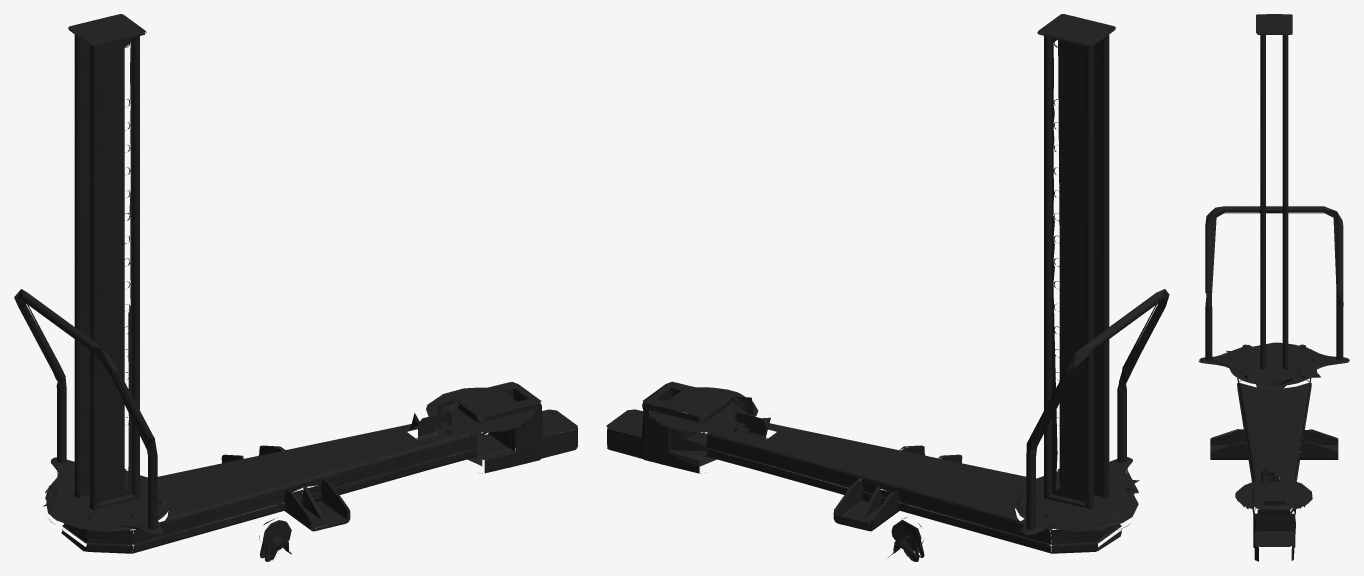
File: vehicleSupport_frame_straightening_crane_a01.glb
The picture shows the model from 3 angles, left to right: view 1: azimuth 30°, elevation 25°; view 2: azimuth 150°, elevation 25°; view 3: azimuth 270°, elevation 25°; orthographic projection. The views are drawn at different scales.
Visible parts, largest first — view 1: geometry_0; view 2: geometry_0; view 3: geometry_0.
Boxes of the visible parts, box(x1,y1,x2,y2) form: geometry_0: box(14, 14, 577, 561); geometry_0: box(606, 14, 1169, 561); geometry_0: box(1198, 14, 1349, 561).
Bounding box in the file's own units: 0.3968 × 0.42 × 0.1408.
Materials: 1 (1 with a texture image).
